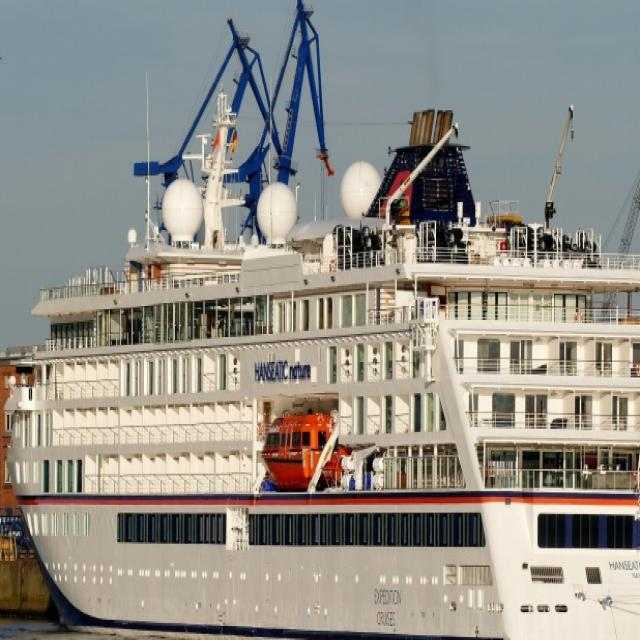cruises: (4, 108, 640, 640)
